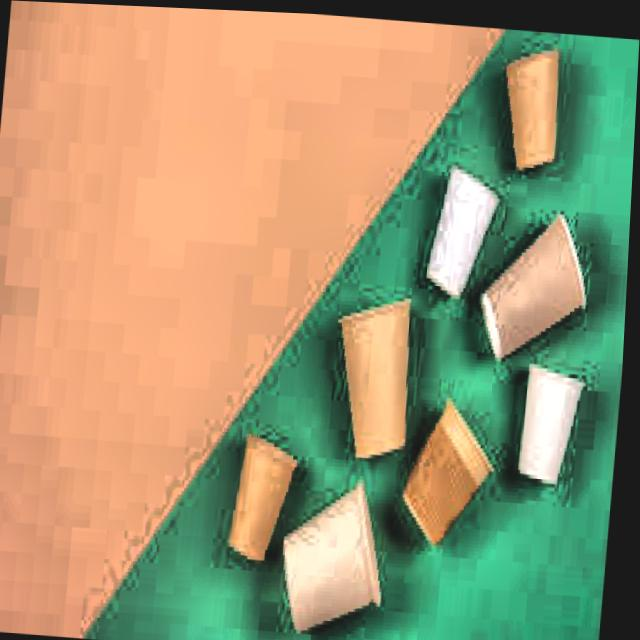Cup: (284, 462, 408, 640), (480, 195, 600, 368), (333, 281, 426, 466), (407, 390, 503, 556), (420, 148, 500, 297), (229, 428, 301, 568), (495, 40, 571, 168), (518, 350, 588, 485)
